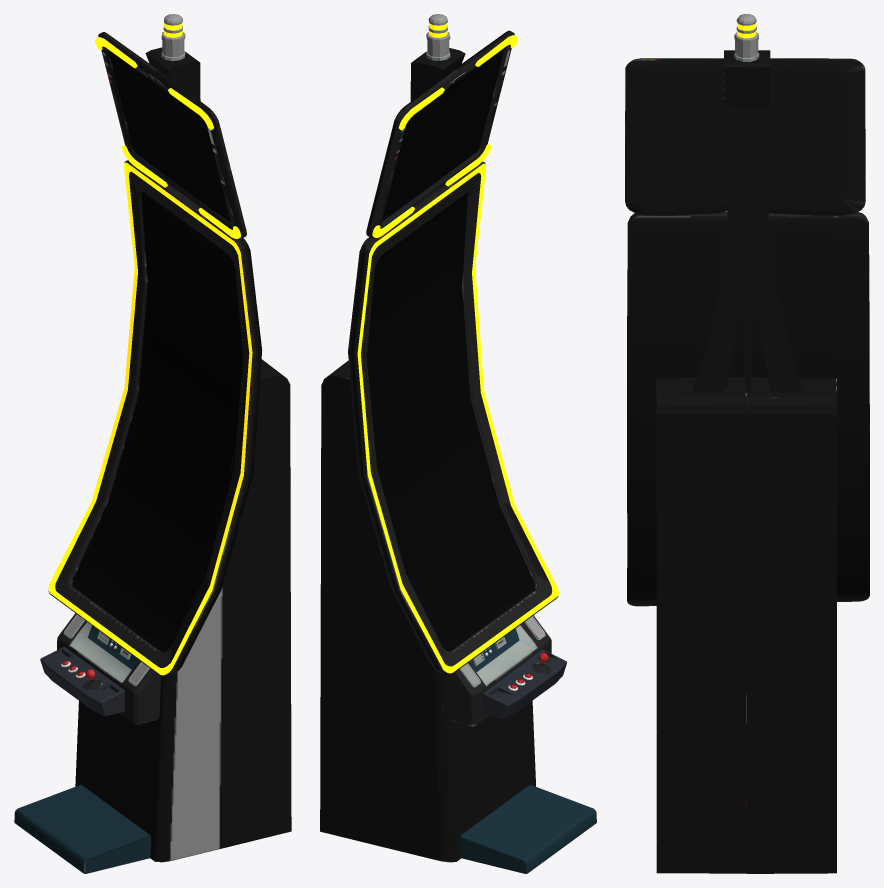
The model's file is Slot_01.fbx.
3 views of the same model, side by side, from view 1: azimuth 30°, elevation 25°; view 2: azimuth 150°, elevation 25°; view 3: azimuth 270°, elevation 25° (orthographic). The views are drawn at different scales.
Visible parts, largest first — view 1: Machine; view 2: Machine; view 3: Machine.
Part boxes in pixels (x1,y1,x2,y2): Machine: [14, 14, 291, 873]; Machine: [320, 14, 596, 873]; Machine: [625, 14, 869, 873].
Size of the model in its own units: 78.91 by 305 by 82.49.
Materials: 3 (1 with a texture image).
